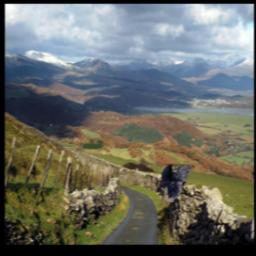Crow: (162, 164, 195, 201)
